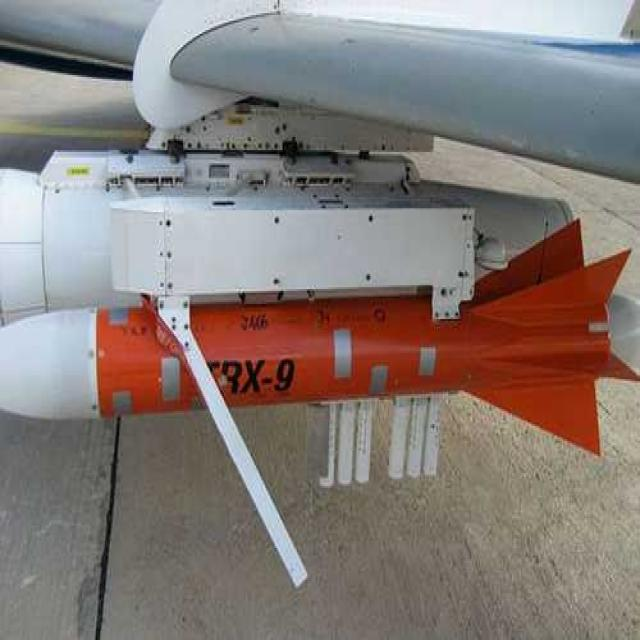missile: (8, 276, 618, 466)
